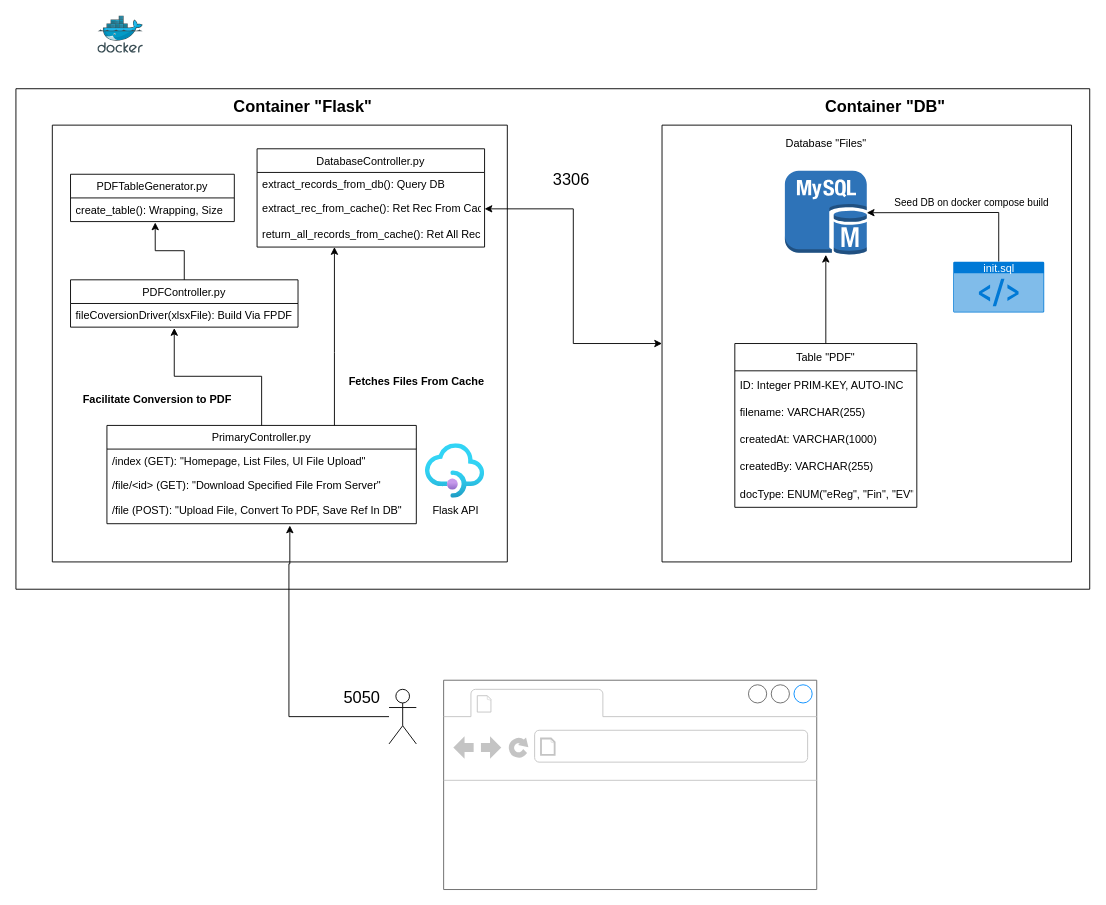
The diagram is 1106 pixels wide and 905 high, and some of its shapes have lost their labels. The centre of each missing label's shape, as x and y in pixels:
Docker Compose: the point at 120,34
http://localhost:5050: the point at 675,746
Page 1: the point at 547,702
User: the point at 402,716
